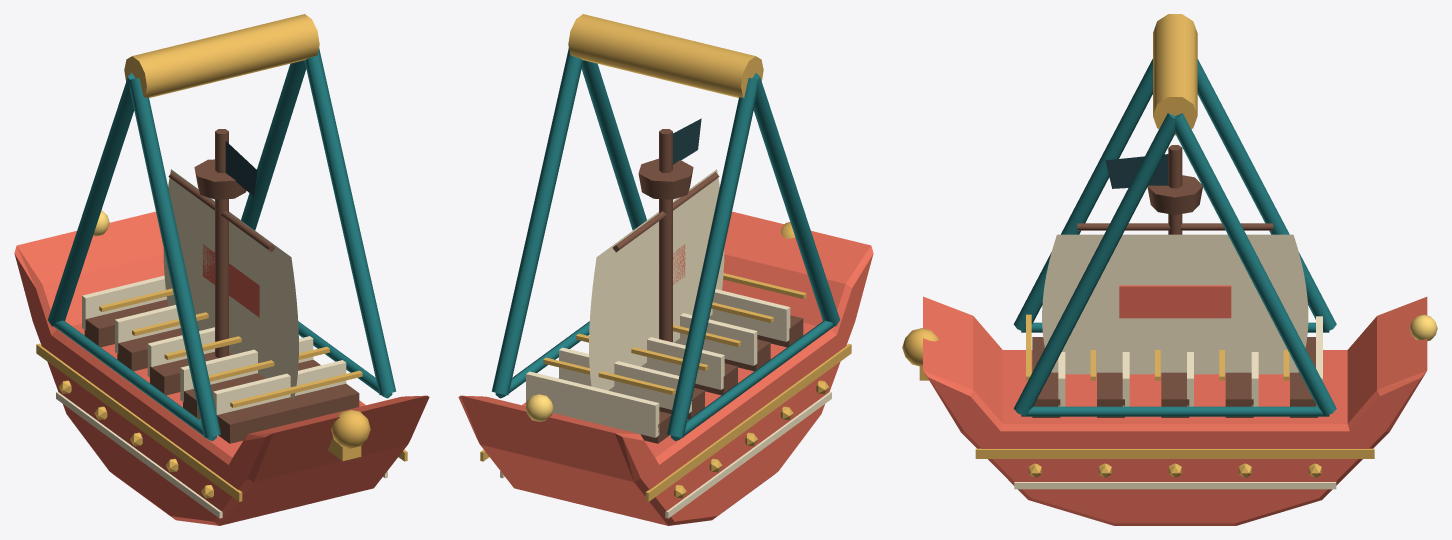
File: ride_pirate_motion.glb
3 views of the same model, side by side, from view 1: azimuth 30°, elevation 25°; view 2: azimuth 150°, elevation 25°; view 3: azimuth 270°, elevation 25° (orthographic).
Visible parts, largest first — view 1: ride_pirate_motion; view 2: ride_pirate_motion; view 3: ride_pirate_motion.
Part boxes in pixels (box(x1,y1,x2,y2)): ride_pirate_motion: box(14, 14, 429, 525); ride_pirate_motion: box(458, 14, 873, 525); ride_pirate_motion: box(902, 14, 1437, 525).
Bounding box in the file's own units: 3.05 × 6.83 × 7.65.
